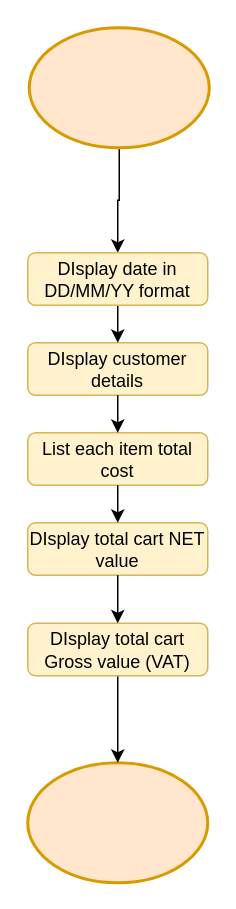
This 236x909 diagram has some shape labels left out. Each missing label, with the box of its shape:
END: (26, 760, 208, 884)
START: (27, 26, 210, 148)
